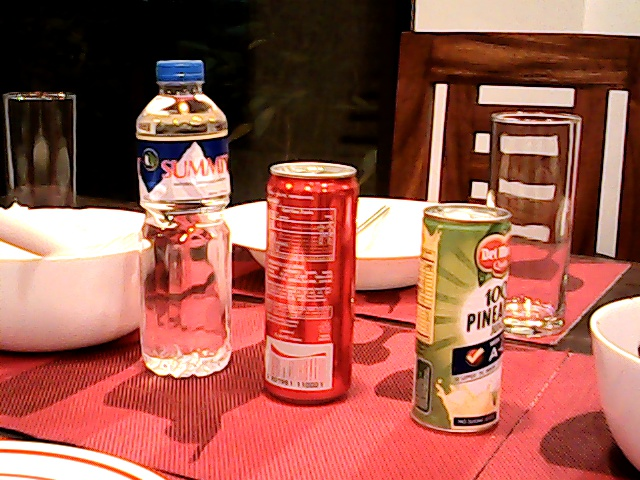Cola: (257, 157, 366, 405)
Pine Juice: (406, 194, 520, 434)
Summit Water: (123, 52, 244, 383)
